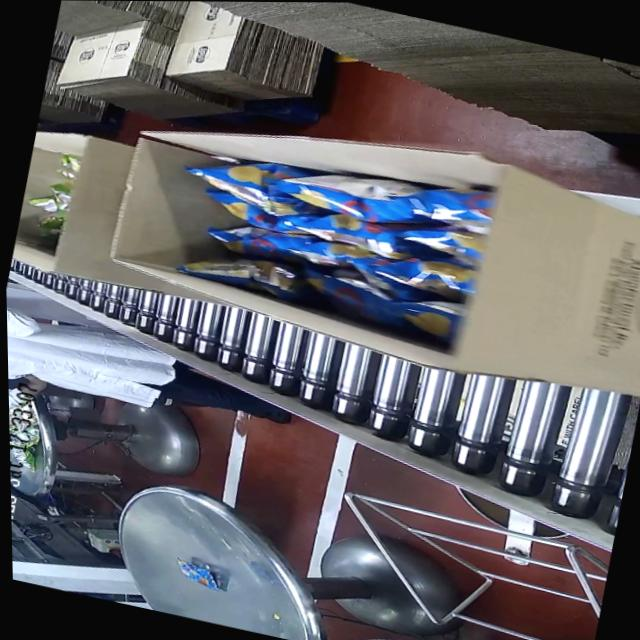PAPRIKA: (172, 125, 487, 339)
